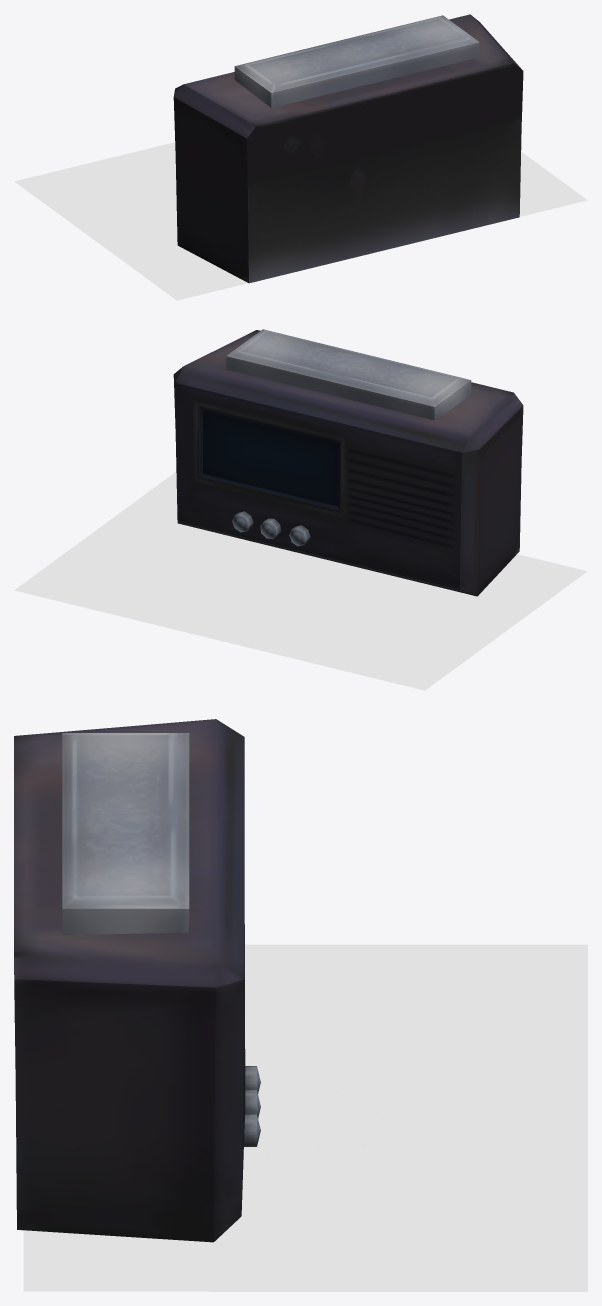
File: AlarmClock.fbx
3 renders of one model, top to bottom at view 1: azimuth 30°, elevation 25°; view 2: azimuth 150°, elevation 25°; view 3: azimuth 270°, elevation 25°, orthographic. The views are drawn at different scales.
Visible parts, largest first — view 1: Shell, AlarmClockLightGlow, Button; view 2: Shell, AlarmClockLightGlow, Button, LCD; view 3: AlarmClockLightGlow, Shell, Button.
Boxes of the visible parts, x1,y1,x2,y2 form: Shell: [173, 14, 523, 283]; AlarmClockLightGlow: [14, 142, 587, 300]; Button: [234, 15, 479, 107]; Shell: [173, 330, 523, 596]; AlarmClockLightGlow: [14, 472, 587, 690]; Button: [226, 329, 471, 420]; LCD: [203, 411, 337, 506]; AlarmClockLightGlow: [23, 944, 587, 1291]; Shell: [14, 719, 245, 1242]; Button: [62, 733, 189, 935].
Bounding box in the file's own units: 0.1925 × 0.0791 × 0.1345.
3 materials, 3 textured.
